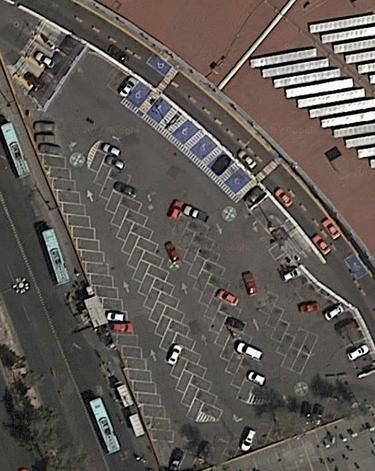parkingspot: (30, 120, 175, 444), (97, 141, 224, 421), (87, 149, 205, 423), (165, 199, 255, 404), (181, 202, 269, 388), (167, 397, 341, 471), (279, 267, 375, 376), (205, 429, 325, 471), (258, 291, 311, 375), (105, 66, 153, 109), (289, 326, 320, 357), (145, 95, 173, 125), (171, 118, 201, 146), (189, 134, 219, 162), (206, 150, 236, 178), (223, 167, 253, 195), (343, 253, 370, 281), (284, 455, 331, 471), (145, 52, 173, 77)
